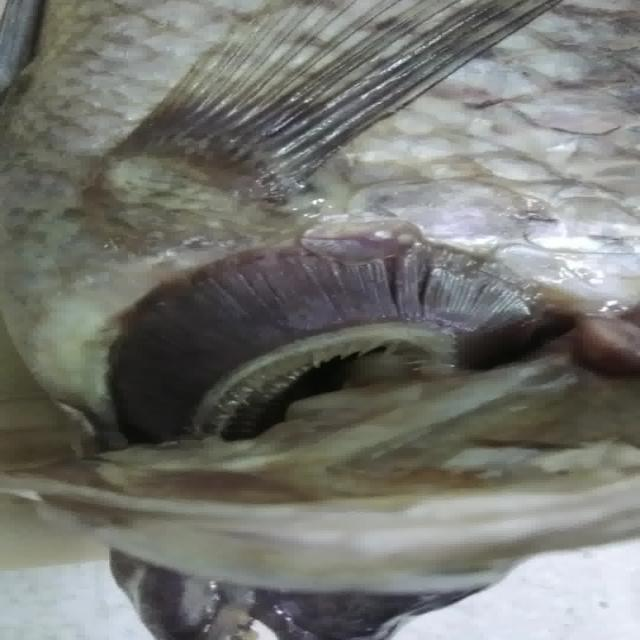Non-Fresh: (99, 238, 571, 454)
